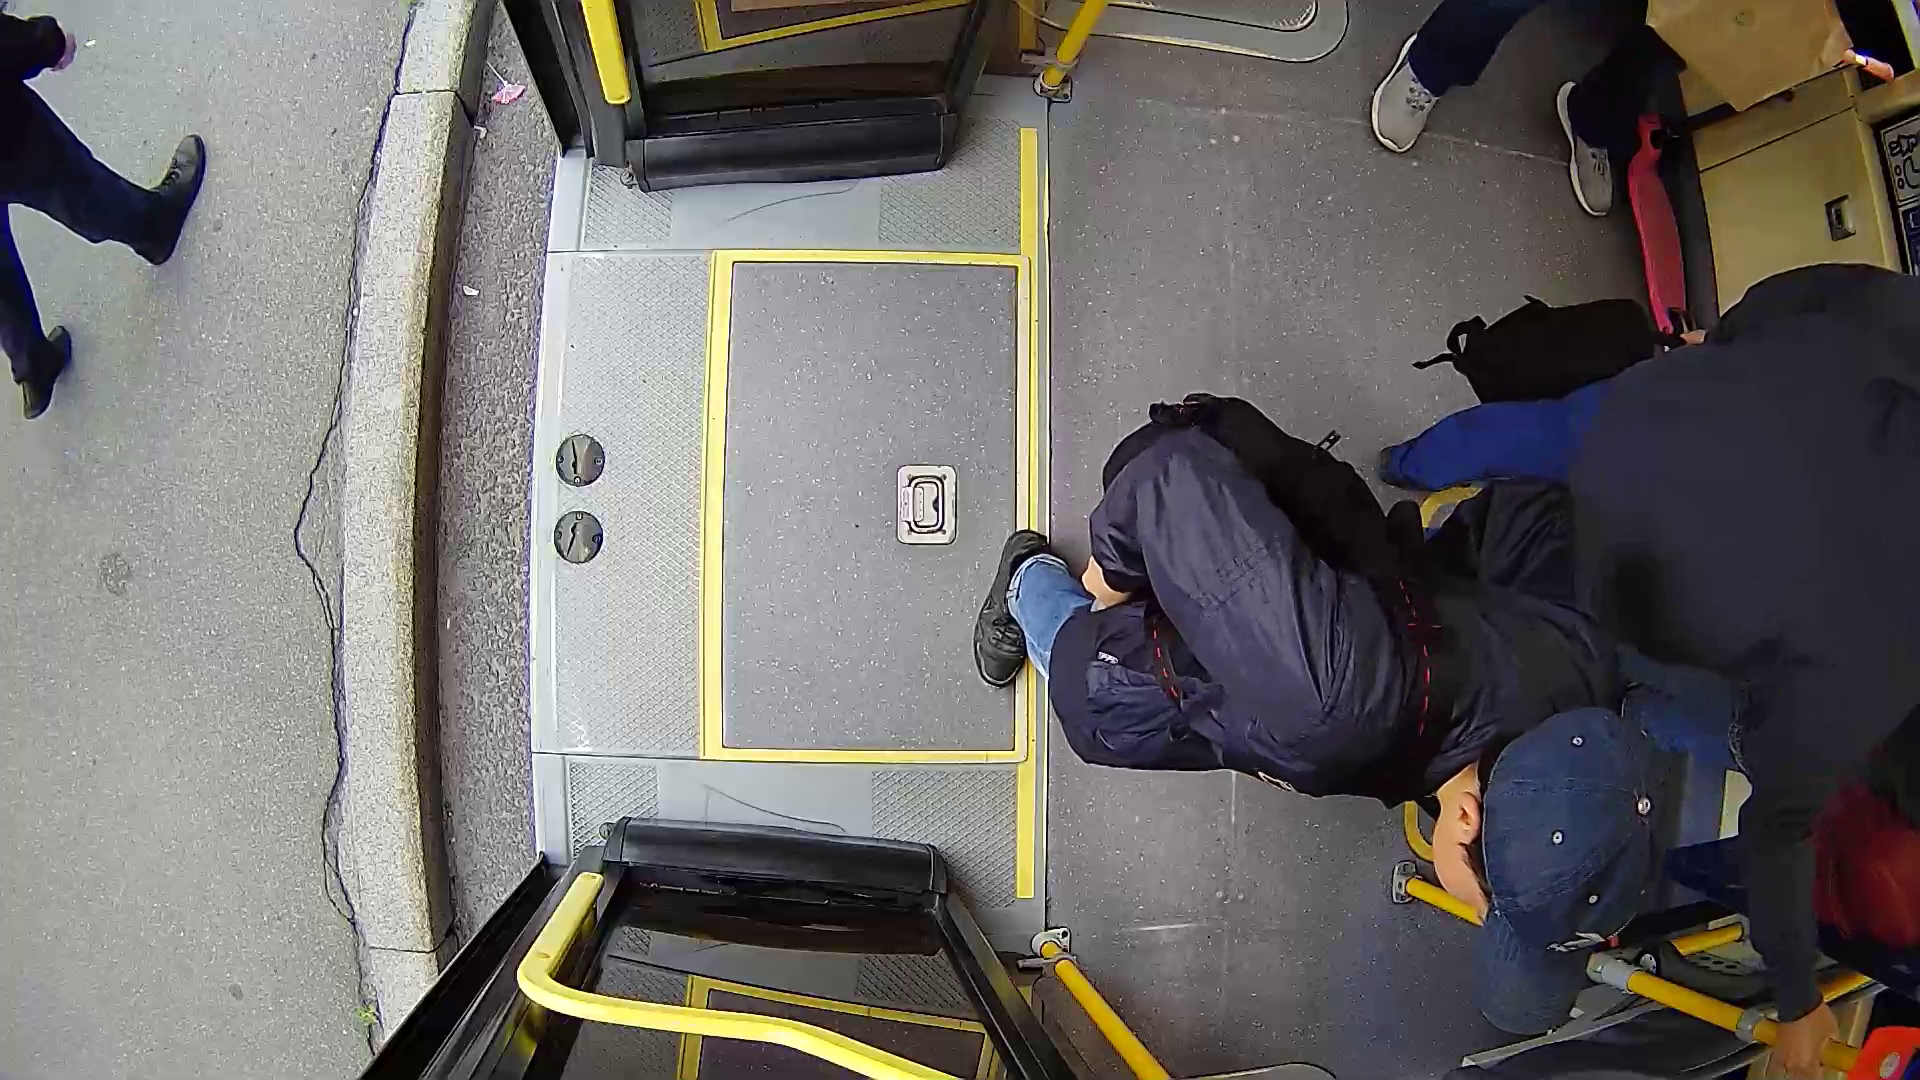person: (973, 392, 1765, 918)
